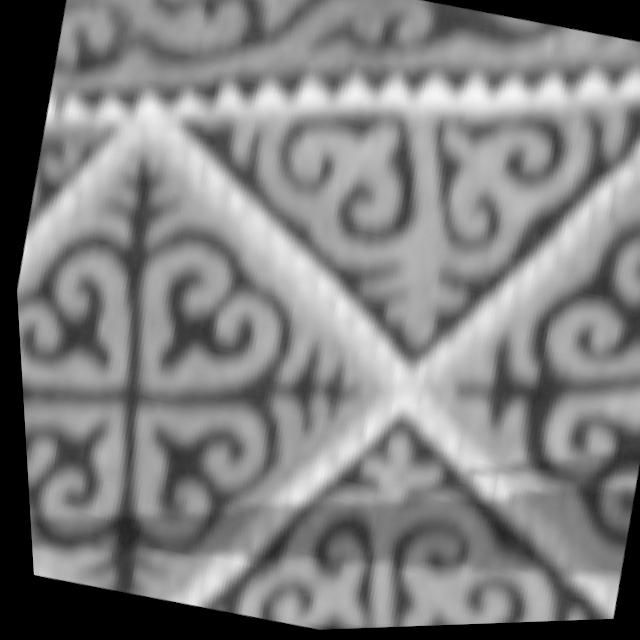Unity: (20, 154, 374, 590), (187, 109, 640, 359), (431, 172, 640, 597), (193, 421, 586, 625)
